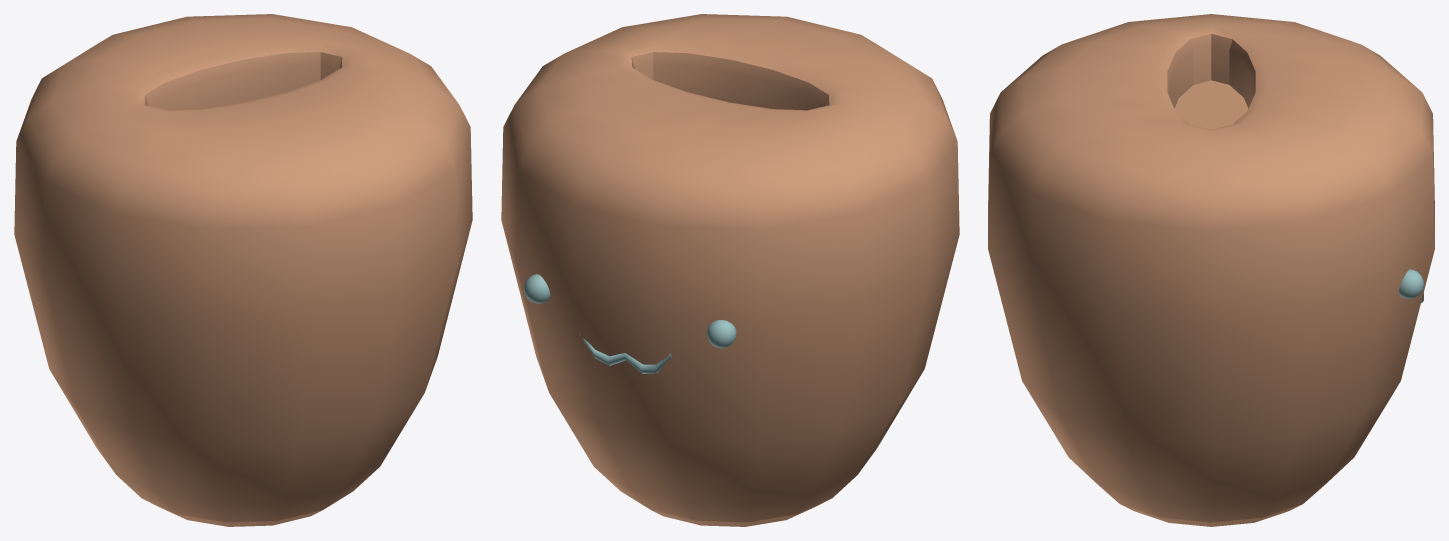
File: EmptyCarrot.FBX
The picture shows the model from 3 angles, left to right: view 1: azimuth 30°, elevation 25°; view 2: azimuth 150°, elevation 25°; view 3: azimuth 270°, elevation 25°; orthographic projection.
Parts seen in each view (by area): view 1: EmptyCarrot; view 2: EmptyCarrot; view 3: EmptyCarrot.
Part boxes in pixels (x1=…): EmptyCarrot: x1=14, y1=14, x2=472, y2=526; EmptyCarrot: x1=501, y1=14, x2=959, y2=526; EmptyCarrot: x1=988, y1=14, x2=1434, y2=526.
Size of the model in its own units: 78.29 by 80.14 by 76.33.
